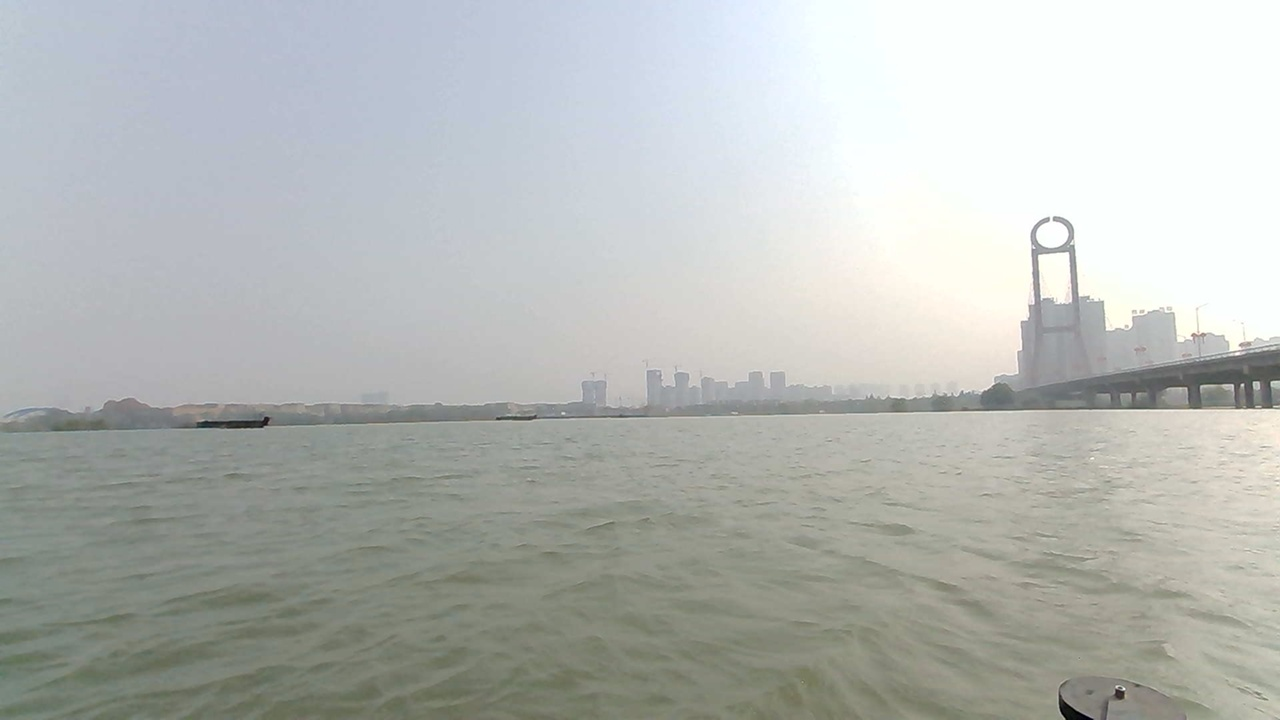bottle: (504, 474, 555, 487)
